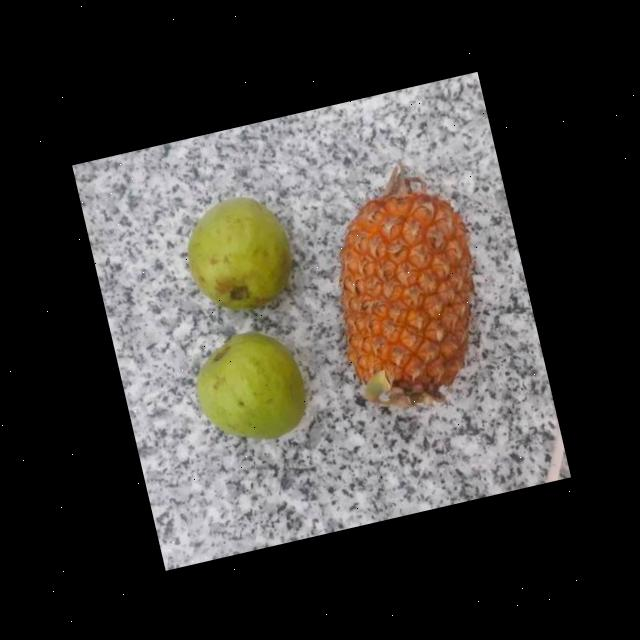guava: (172, 188, 300, 314), (182, 326, 310, 449)
pineapple: (309, 173, 498, 414)
